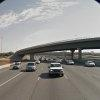Bridge: (10, 31, 92, 56)
